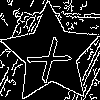X: (26, 29, 81, 84)
